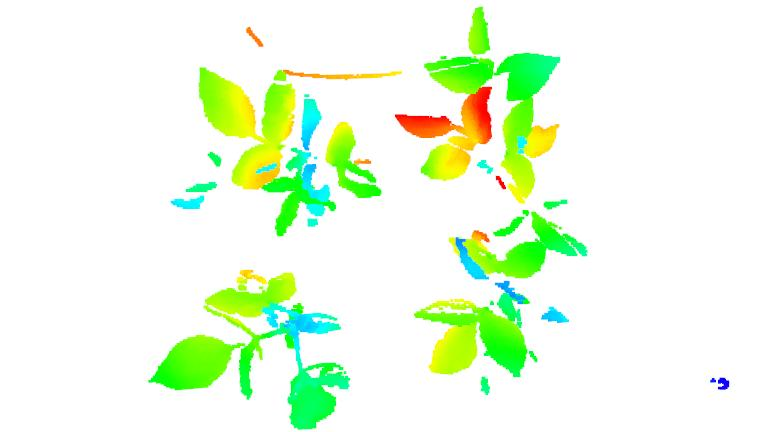mungbean: (395, 5, 594, 261), (194, 67, 387, 242), (146, 271, 350, 432), (412, 233, 565, 379)
